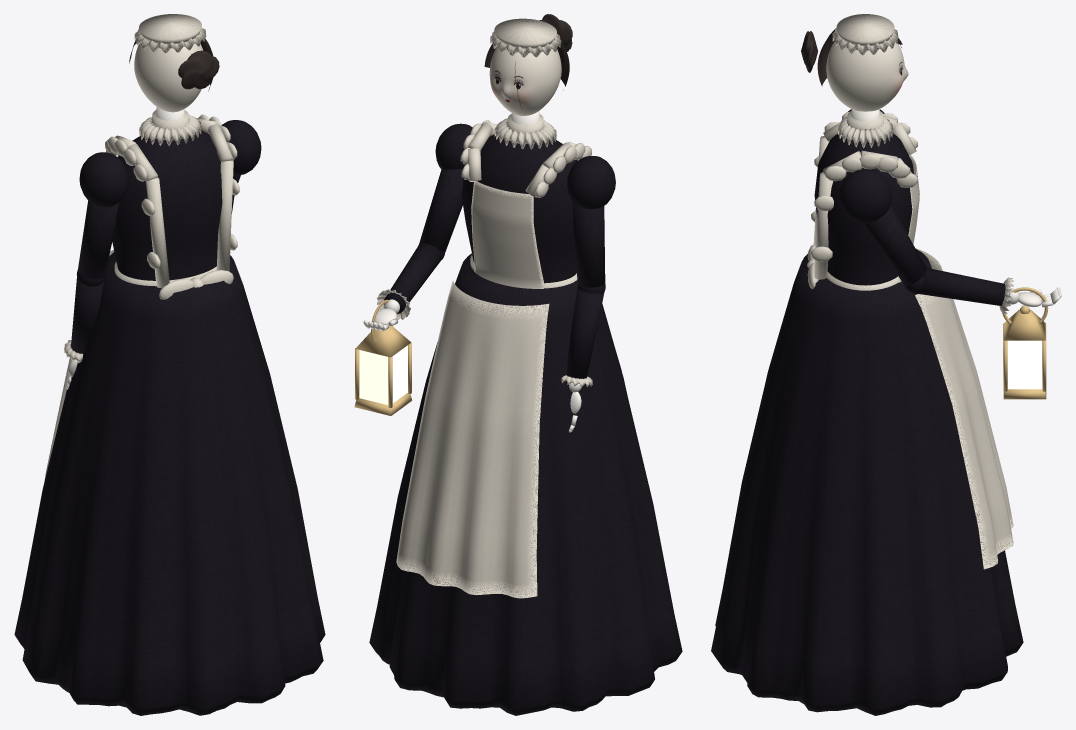
The model's file is maid.glb.
3 views of the same model, side by side, from view 1: azimuth 30°, elevation 25°; view 2: azimuth 150°, elevation 25°; view 3: azimuth 270°, elevation 25° (orthographic).
Visible parts, largest first — view 1: skirt, bodice, skull, upperL, puffL, capband, foreL, strap13, strap-13, puffR, bun, collar (+2 smaller); view 2: skirt, apron, bodice, bib, skull, upperL, upperR, lglass, foreL, puffL, foreR, capband (+5 smaller); view 3: skirt, apron, bodice, skull, puffR, upperR, foreR, lglass, capband, ltop, strap13, collar (+1 smaller).
Boxes of the visible parts, x1,y1,x2,y2 form: skirt: [14, 252, 325, 715]; bodice: [112, 130, 234, 280]; skull: [134, 43, 203, 112]; upperL: [77, 200, 119, 279]; puffL: [79, 152, 128, 207]; capband: [139, 14, 201, 44]; foreL: [71, 277, 103, 353]; strap13: [216, 160, 233, 271]; strap-13: [146, 177, 169, 288]; puffR: [222, 120, 261, 174]; bun: [178, 50, 219, 89]; collar: [139, 114, 201, 145]; skirt: [369, 253, 682, 715]; apron: [396, 281, 549, 598]; bodice: [461, 134, 577, 283]; bib: [471, 180, 544, 288]; skull: [489, 46, 561, 115]; upperL: [572, 201, 605, 287]; upperR: [419, 169, 463, 252]; lglass: [359, 345, 407, 404]; foreL: [566, 288, 604, 383]; puffL: [567, 156, 615, 209]; foreR: [384, 243, 442, 313]; capband: [494, 18, 556, 48]; skirt: [711, 249, 1023, 715]; apron: [915, 248, 1013, 569]; bodice: [814, 133, 913, 285]; skull: [826, 42, 908, 111]; puffR: [839, 169, 892, 223]; upperR: [864, 205, 926, 285]; foreR: [919, 268, 1009, 305]; lglass: [1007, 340, 1042, 389]; capband: [836, 14, 894, 46]; ltop: [1004, 309, 1045, 340]; strap13: [813, 171, 833, 279]; collar: [838, 117, 892, 147].
Size of the model in its own units: 0.7284 by 1.61 by 0.8148.
7 materials, 3 textured.
